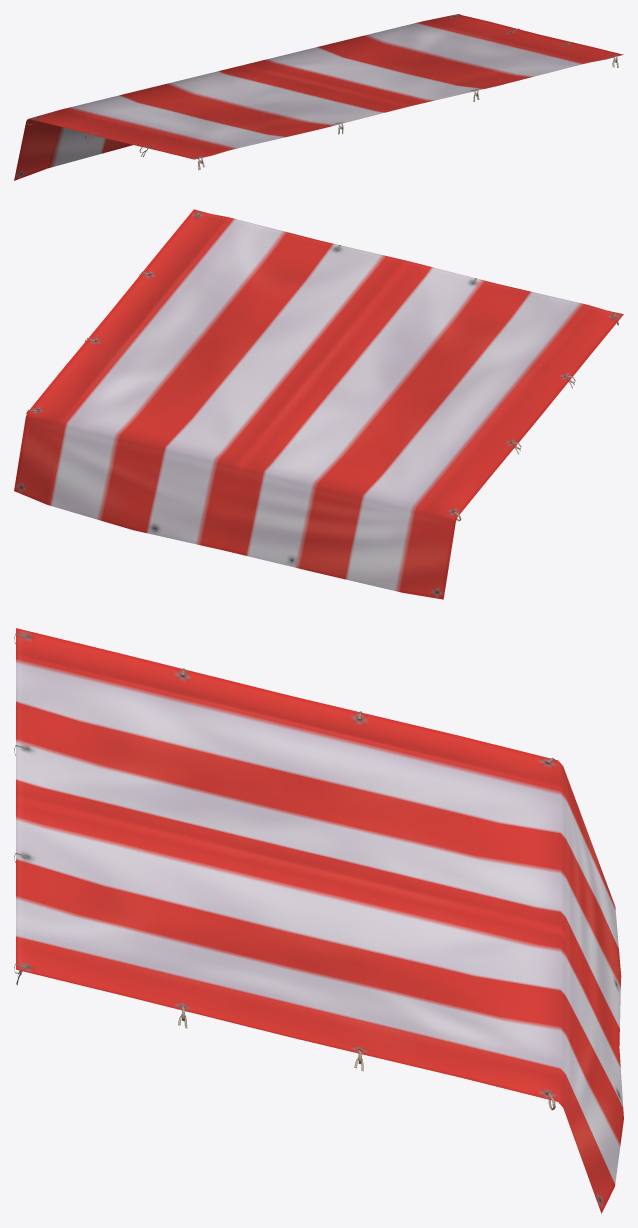
File: jsf_Ceiling_s03_c01_t02.fbx
The picture shows the model from 3 angles, top to bottom: view 1: azimuth 30°, elevation 25°; view 2: azimuth 150°, elevation 25°; view 3: azimuth 270°, elevation 25°; orthographic projection. The views are drawn at different scales.
Visible parts, largest first — view 1: jsf_Ceiling_s03_c01_t02; view 2: jsf_Ceiling_s03_c01_t02; view 3: jsf_Ceiling_s03_c01_t02.
Boxes of the visible parts, x1,y1,x2,y2 form: jsf_Ceiling_s03_c01_t02: (14, 14, 623, 180); jsf_Ceiling_s03_c01_t02: (14, 209, 623, 599); jsf_Ceiling_s03_c01_t02: (14, 628, 623, 1213).
Size of the model in its own units: 315 by 106 by 234.
